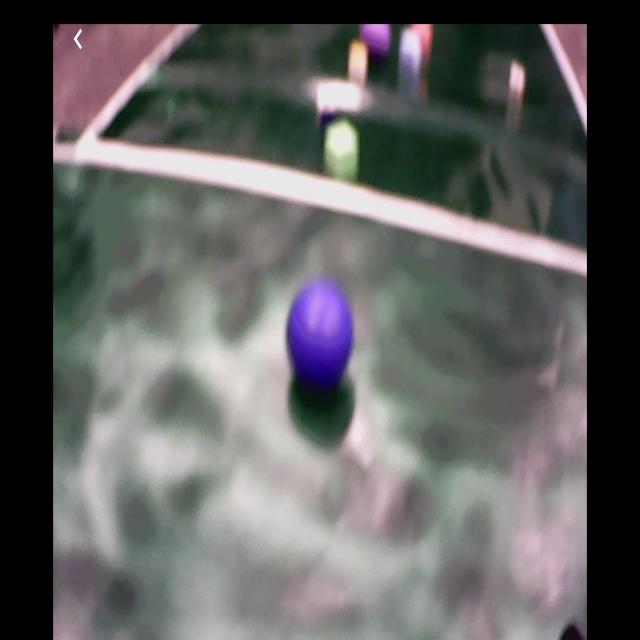ball: (287, 282, 353, 385), (360, 24, 394, 61)
